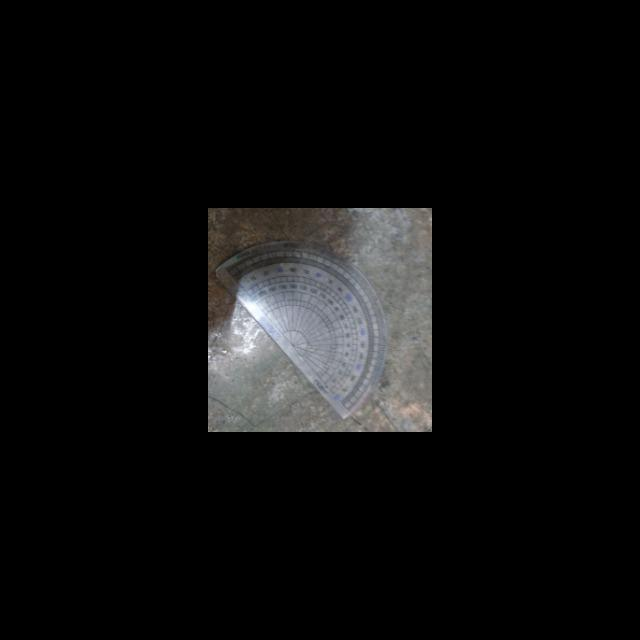plastic: (210, 235, 386, 422)
